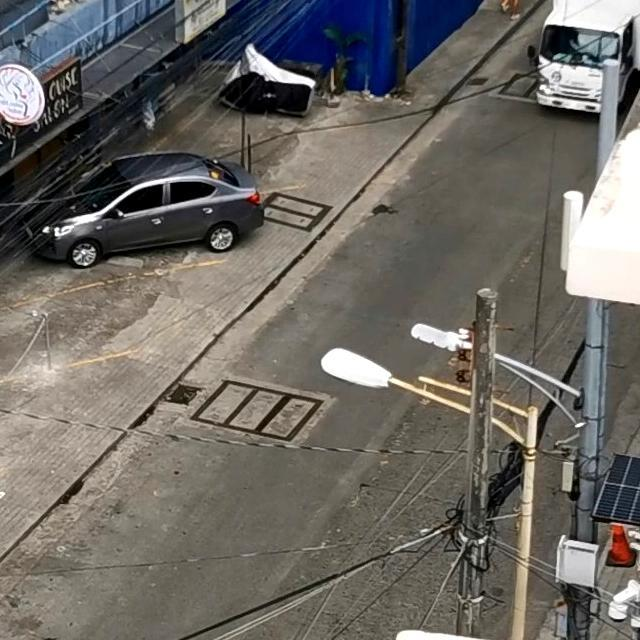Truck: (537, 0, 640, 116)
